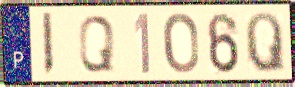1: (133, 11, 151, 76)
6: (206, 11, 241, 75)
I: (40, 11, 55, 78)
O: (161, 11, 201, 76)
Q: (243, 10, 288, 75), (77, 13, 116, 74)
